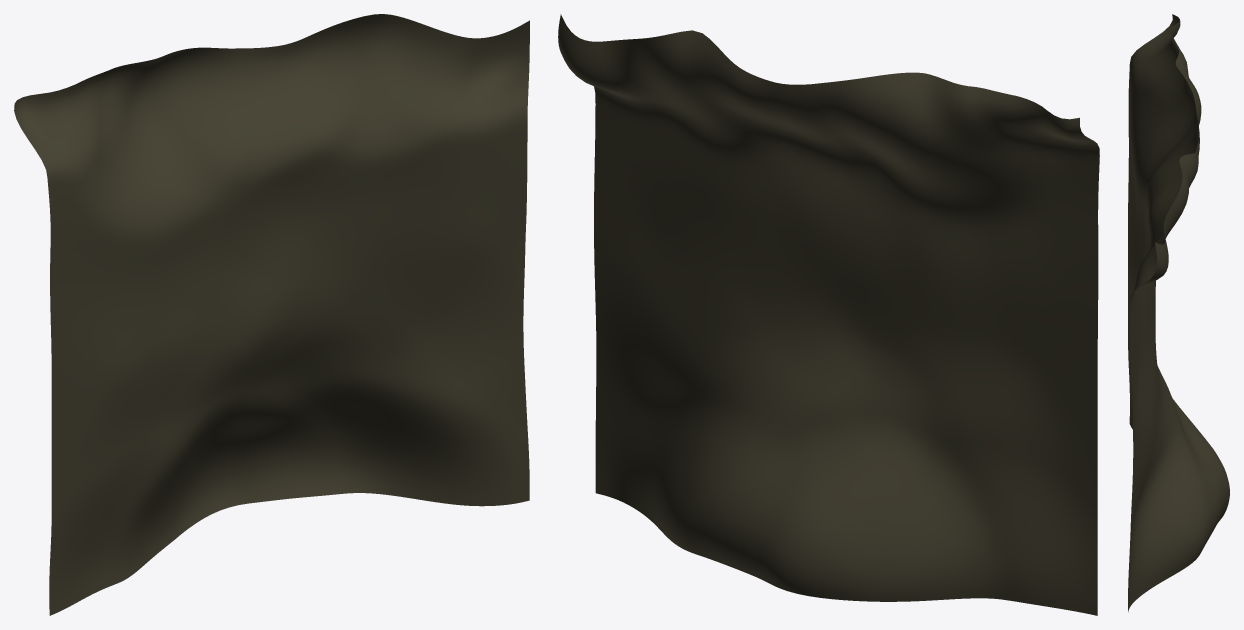
File: mouintain_tex.fbx
3 views of the same model, side by side, from view 1: azimuth 30°, elevation 25°; view 2: azimuth 150°, elevation 25°; view 3: azimuth 270°, elevation 25° (orthographic). The views are drawn at different scales.
Parts seen in each view (by area): view 1: Retopo_Plane; view 2: Retopo_Plane; view 3: Retopo_Plane.
Boxes of the visible parts, box(x1,y1,x2,y2) form: Retopo_Plane: box(14, 14, 529, 615); Retopo_Plane: box(558, 14, 1099, 615); Retopo_Plane: box(1128, 14, 1229, 612).
Bounding box in the file's own units: 1192 × 1136 × 254.
